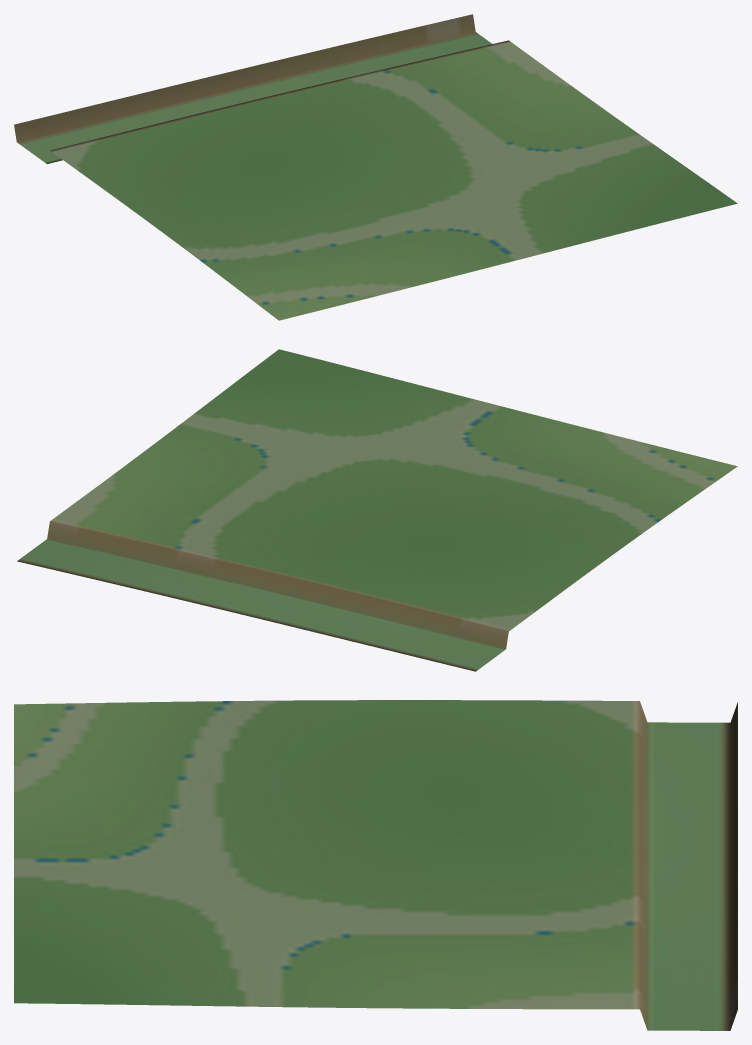
Rendered from terrain_T_E03_S02.glb.
The picture shows the model from 3 angles, top to bottom: view 1: azimuth 30°, elevation 25°; view 2: azimuth 150°, elevation 25°; view 3: azimuth 270°, elevation 25°; orthographic projection. The views are drawn at different scales.
Parts seen in each view (by area): view 1: Terrain_T_E03_S02; view 2: Terrain_T_E03_S02; view 3: Terrain_T_E03_S02.
Part boxes in pixels (box(x1,y1,x2,y2)): Terrain_T_E03_S02: box(14, 14, 737, 320); Terrain_T_E03_S02: box(17, 349, 737, 671); Terrain_T_E03_S02: box(14, 700, 737, 1030).
Size of the model in its own units: 2000 by 84.01 by 2000.
1 material, 1 textured.
